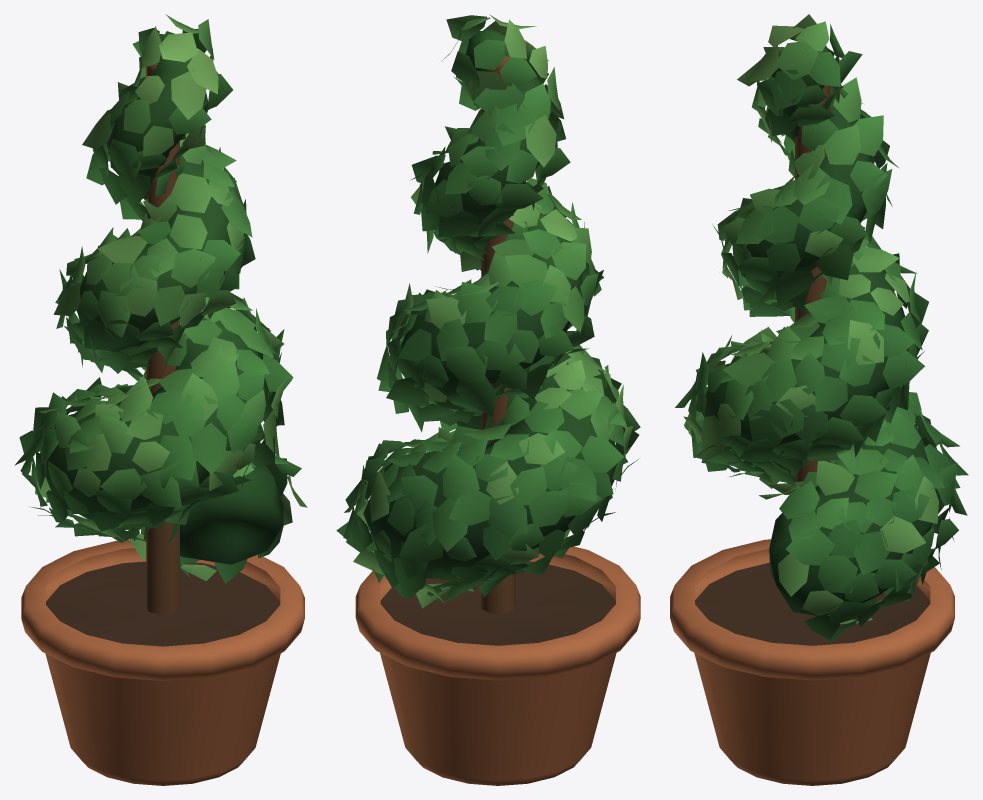
The model's file is furn_od_topiary_spiral.glb.
The picture shows the model from 3 angles, left to right: view 1: azimuth 30°, elevation 25°; view 2: azimuth 150°, elevation 25°; view 3: azimuth 270°, elevation 25°; orthographic projection.
Visible parts, largest first — view 1: furn_od_topiary_spiral_main; view 2: furn_od_topiary_spiral_main; view 3: furn_od_topiary_spiral_main.
Boxes of the visible parts, x1=… form: furn_od_topiary_spiral_main: x1=14, y1=14, x2=307, y2=785; furn_od_topiary_spiral_main: x1=336, y1=14, x2=640, y2=785; furn_od_topiary_spiral_main: x1=670, y1=14, x2=968, y2=785.
Size of the model in its own units: 0.4783 by 1.28 by 0.475.
